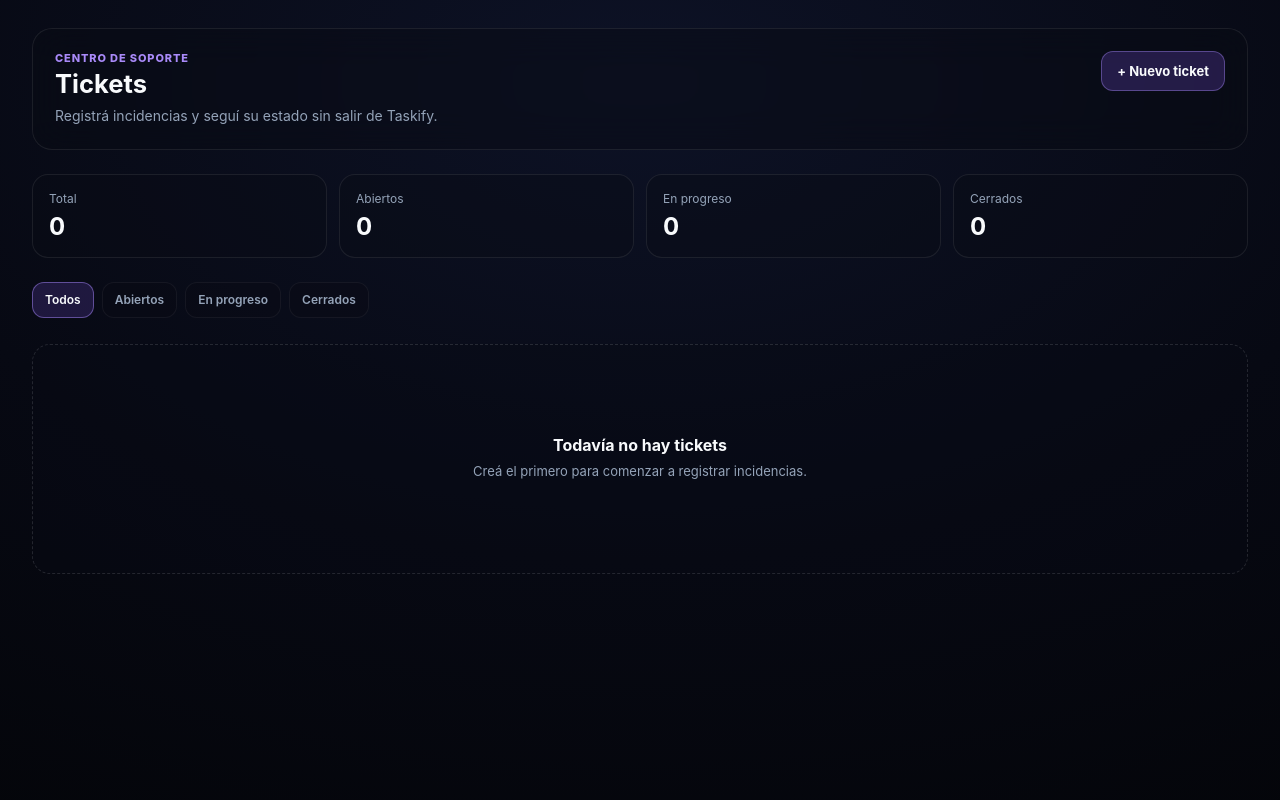
Test: DashboardTickets B7.5A › muestra el estado vacío y permite abrir el formulario
Expected: the text "Todavía no hay tickets" is shown, [553,435,727,455]
Click the button "+ Nuevo ticket": (1163, 71) [1101,51,1225,91]
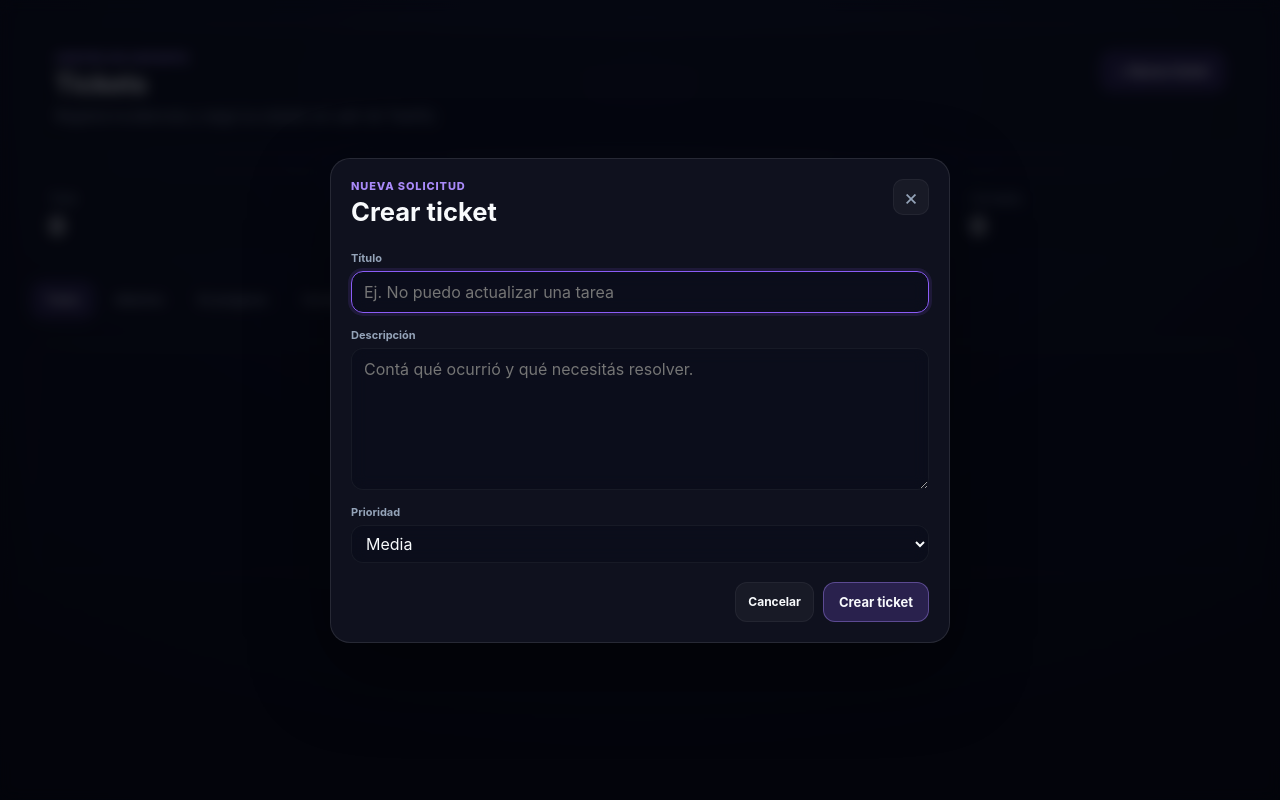
Result: the dialog "Crear ticket" is shown at [330,158,950,642]
